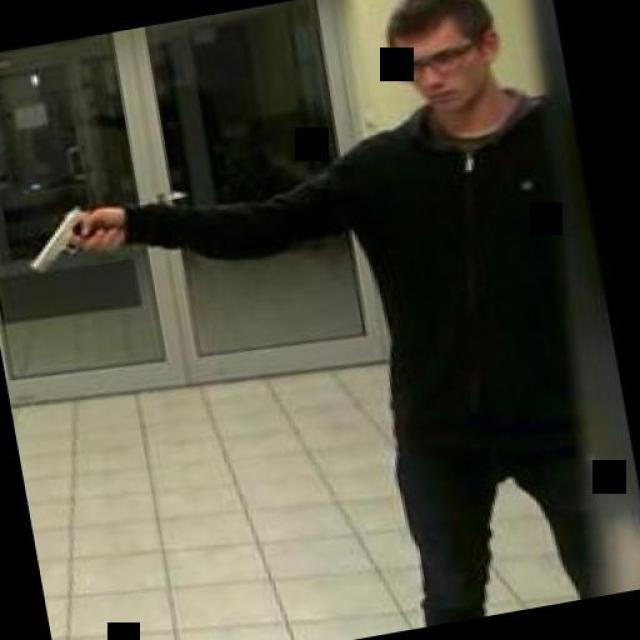gun: (15, 195, 114, 274)
